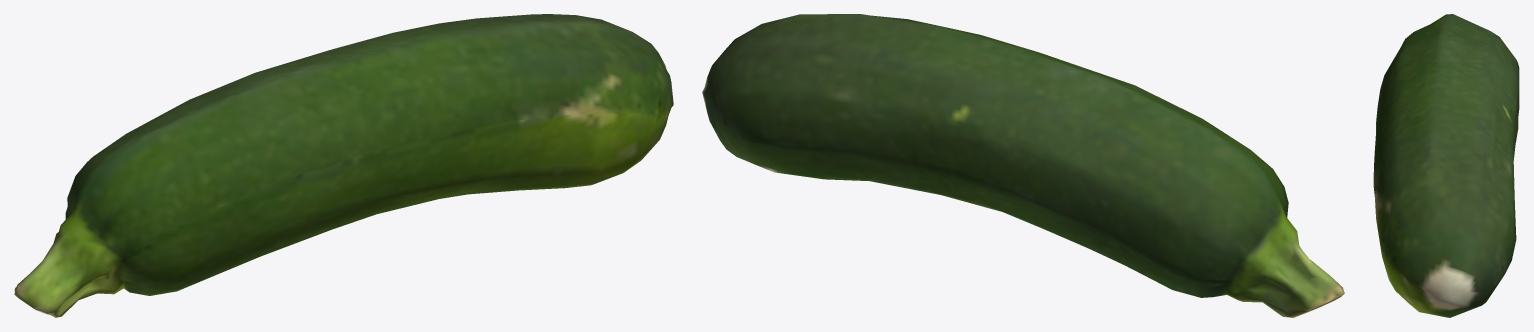
3 views of the same model, side by side, from view 1: azimuth 30°, elevation 25°; view 2: azimuth 150°, elevation 25°; view 3: azimuth 270°, elevation 25° (orthographic). The views are drawn at different scales.
Parts seen in each view (by area): view 1: zuchinni_8.001; view 2: zuchinni_8.001; view 3: zuchinni_8.001.
Part boxes in pixels (x1=…): zuchinni_8.001: x1=14, y1=14, x2=673, y2=317; zuchinni_8.001: x1=702, y1=14, x2=1344, y2=317; zuchinni_8.001: x1=1373, y1=14, x2=1519, y2=317.
Size of the model in its own units: 0.1101 by 0.0307 by 0.026.
1 material, 1 textured.
